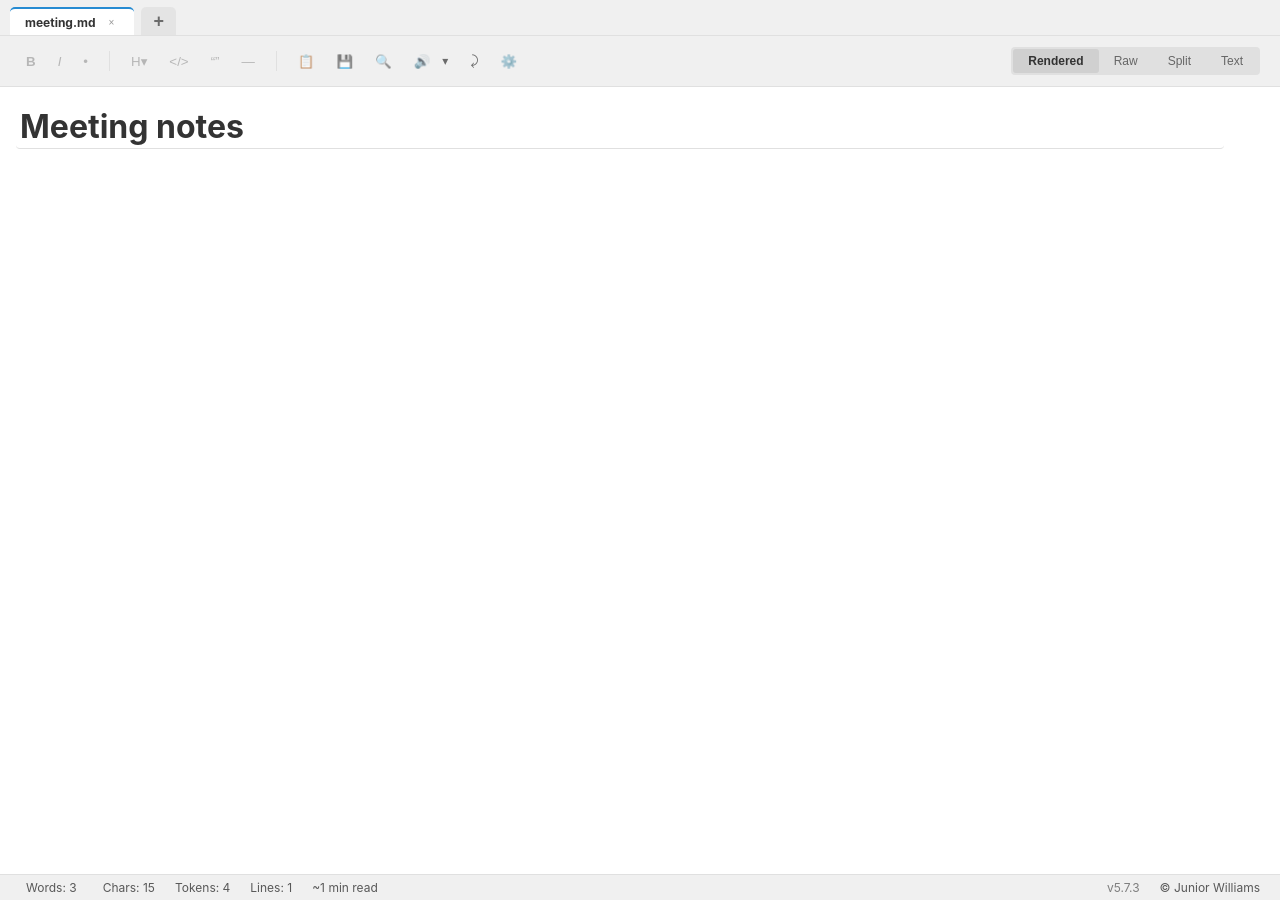
Test: App Integration Tests › Tab Management › should show file path tooltip on tab hover
This screenshot has width=1280, height=900.
Hover over the tab "meeting.md ×": (72, 21) [10,7,134,35]
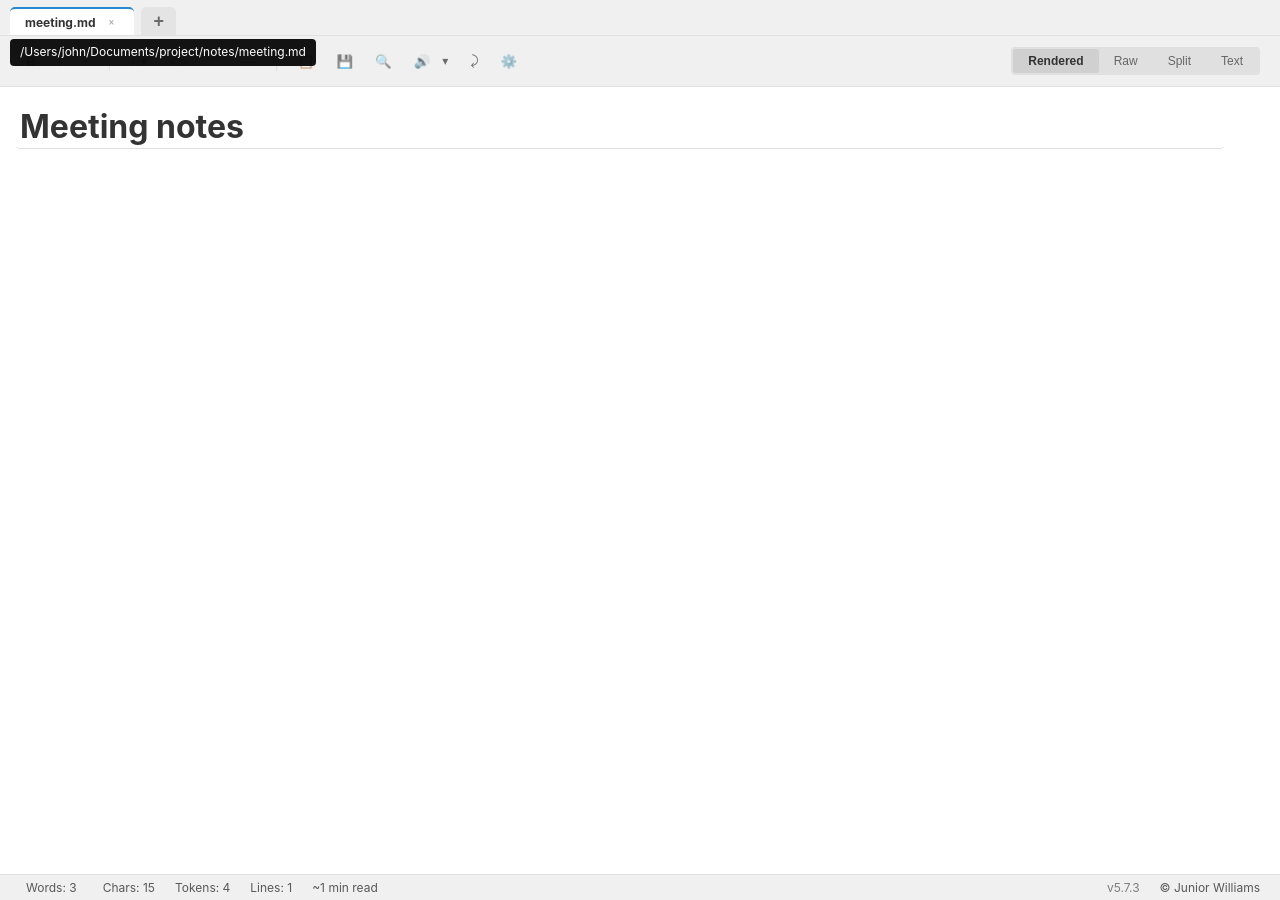
Expected: the text "/Users/john/Documents/project/notes/meeting.md" is shown, [10,39,316,66]
